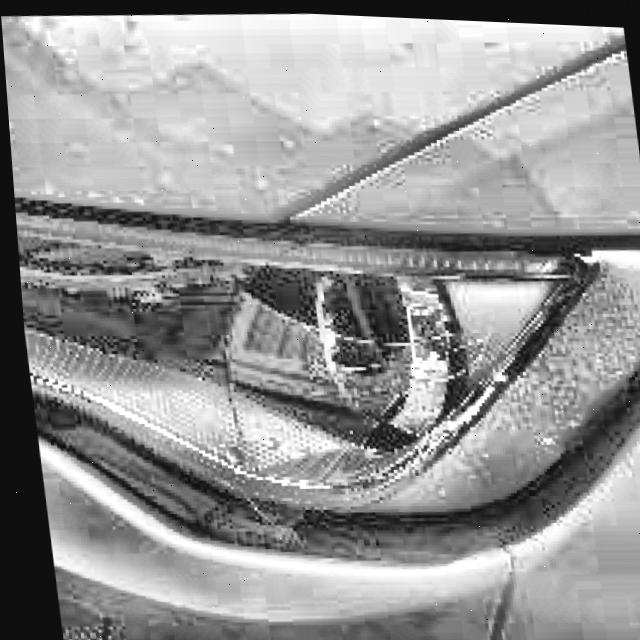head_lamp: (230, 234, 558, 499)
